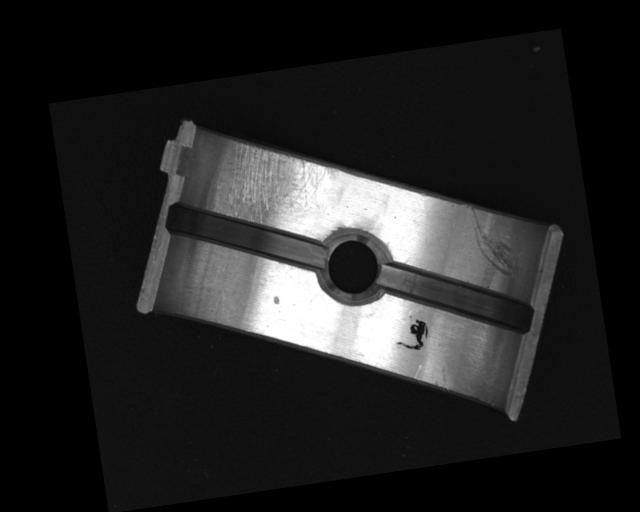blot: (391, 317, 431, 354)
bruise: (271, 294, 281, 306)
gap: (163, 182, 326, 291), (376, 244, 538, 353)
hole: (315, 230, 391, 306)
nick: (468, 199, 519, 283)
scratch: (202, 128, 338, 230)
